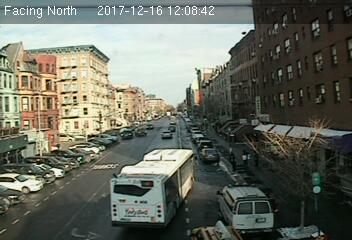bus: (109, 147, 199, 224)
car: (202, 148, 218, 161)
pedestrian: (229, 152, 239, 176)
police: (217, 179, 274, 231)
